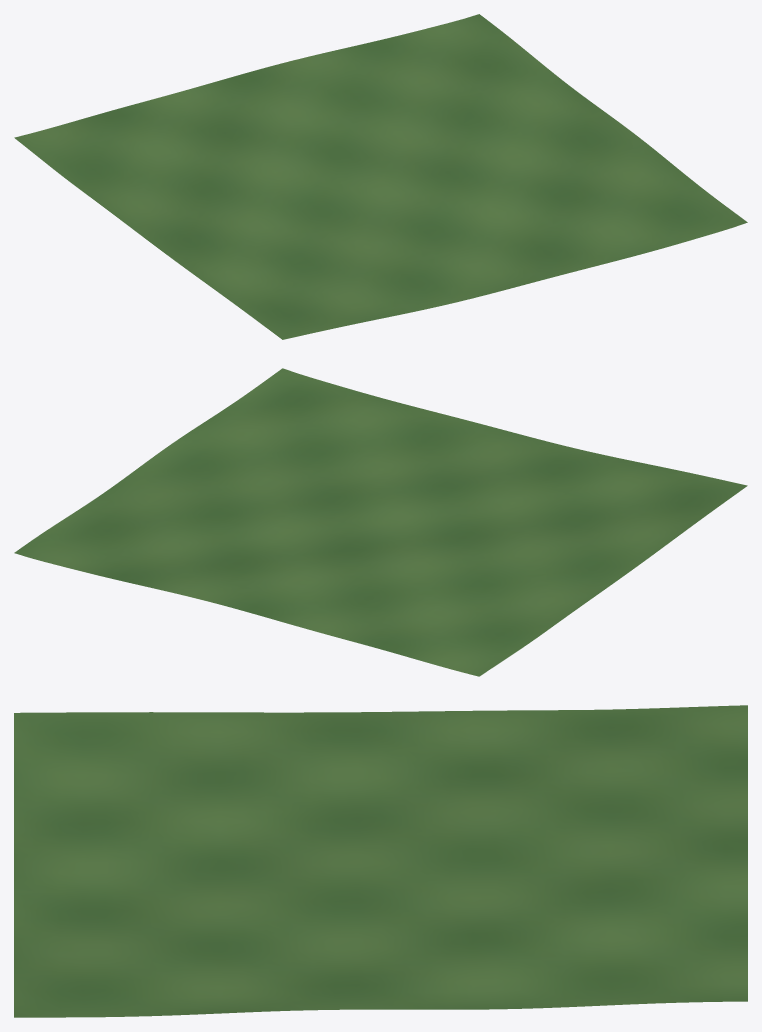
File: chunk_11_3.glb
3 renders of one model, top to bottom at view 1: azimuth 30°, elevation 25°; view 2: azimuth 150°, elevation 25°; view 3: azimuth 270°, elevation 25°, orthographic. The views are drawn at different scales.
Bounding box in the file's own units: 512 × 21.68 × 512.
